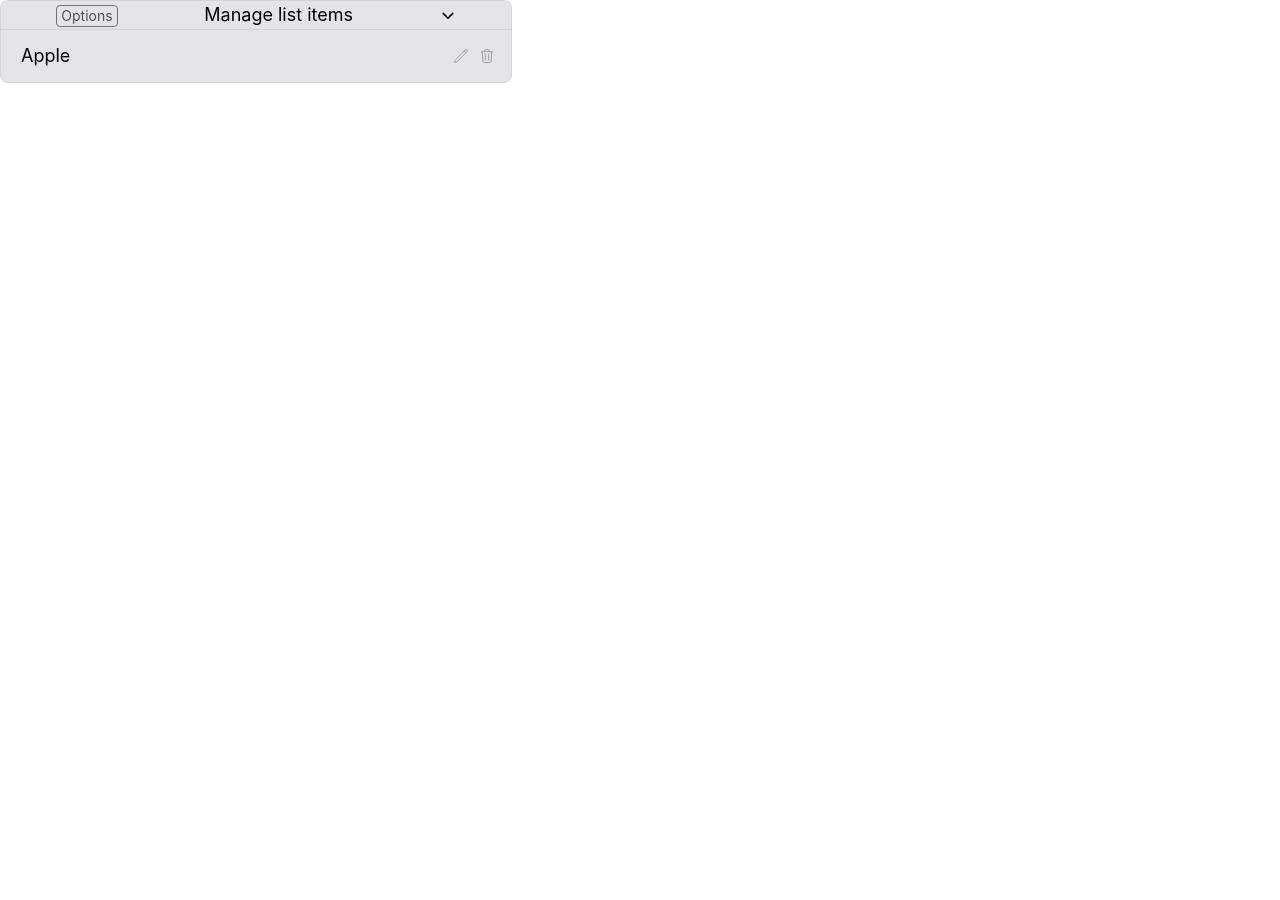
Test: ListItems › cancelling an edit leaves the label unchanged
Click the button named "edit apple" at [461, 56], box [453,48,469,64]
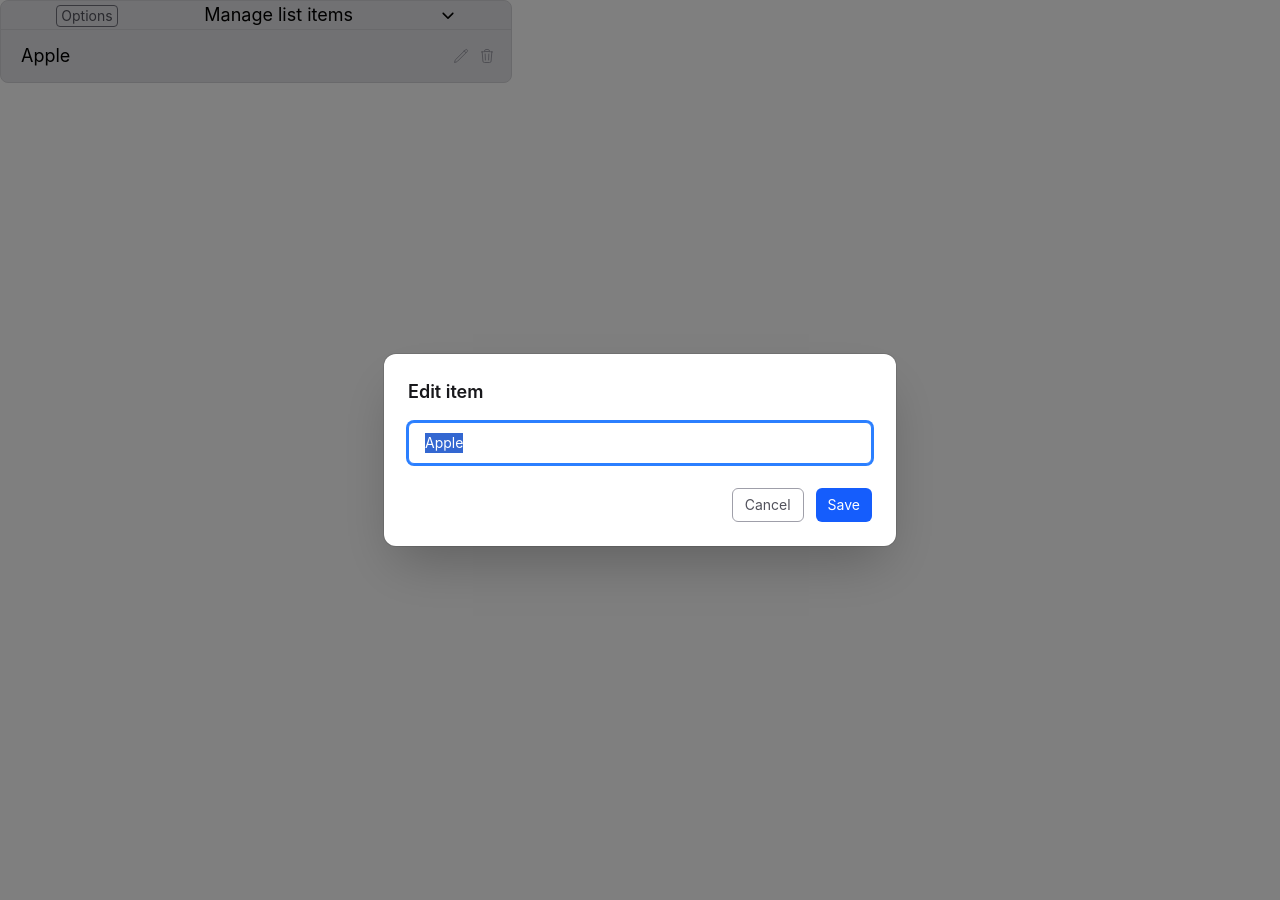
Replace the text in the field named "Edit item" with "Apricot" at [640, 443], box [408,422,872,464]
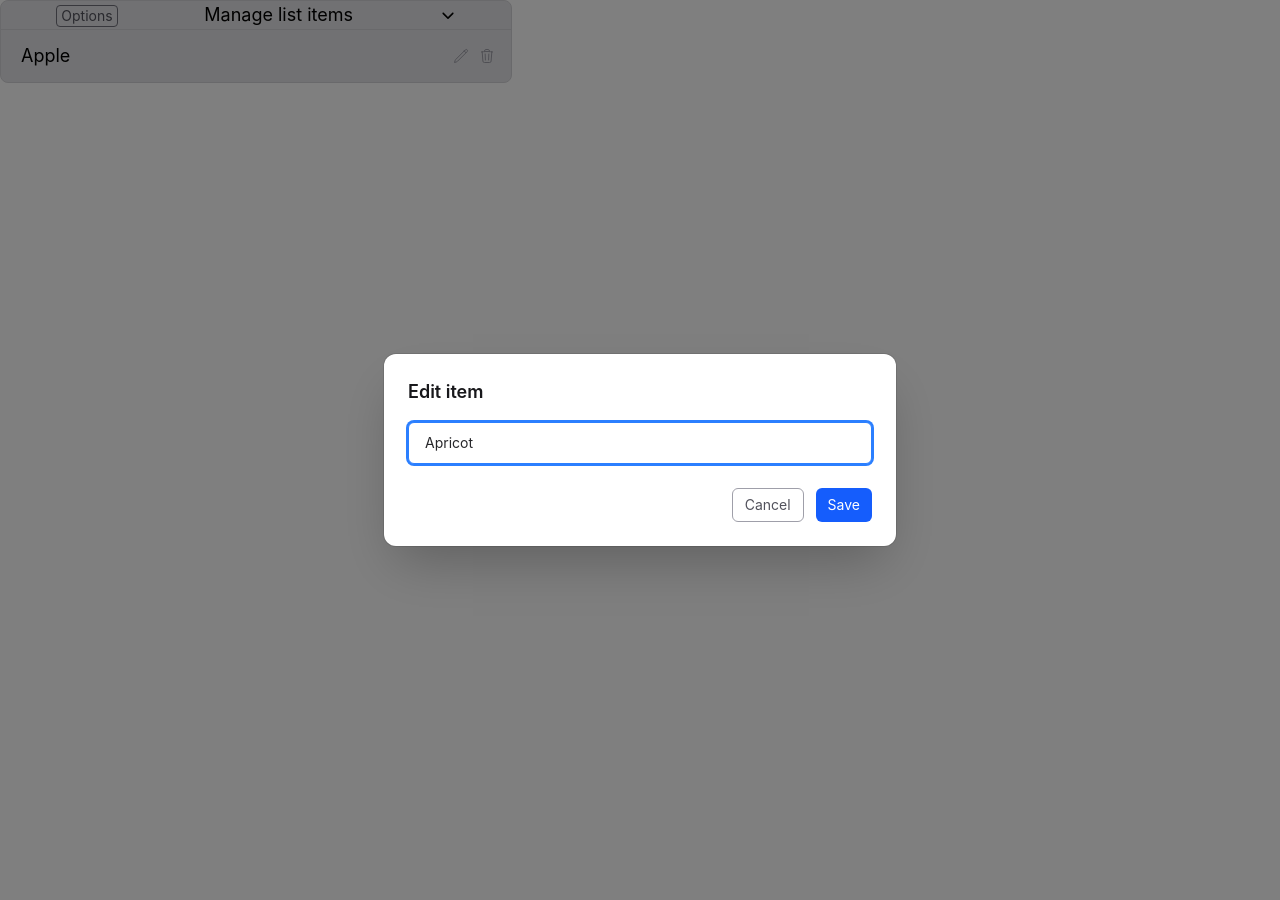
Click the button "Cancel" at [768, 505], box [732,488,804,522]
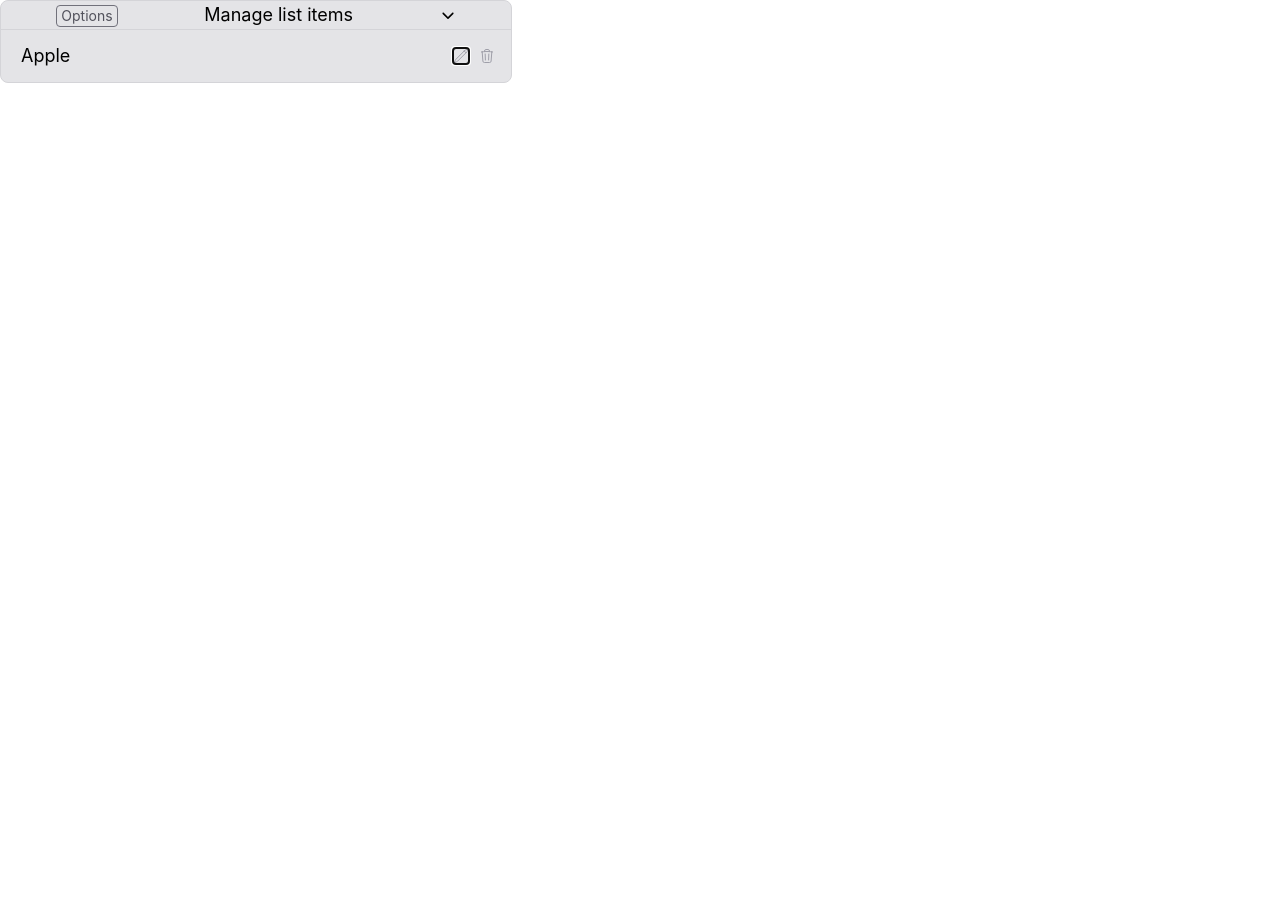
Expected: the text "Apple" is shown, [21,45,70,66]
Result: the dialog is gone
